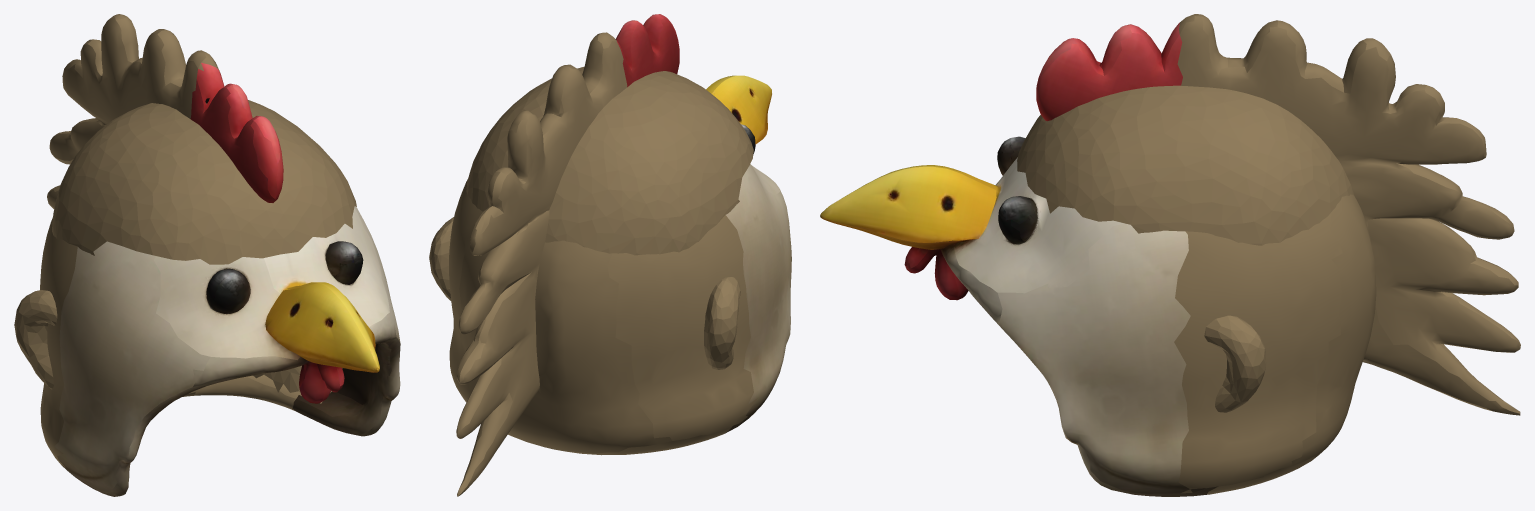
Rendered from chicken.glb.
3 renders of one model, left to right at view 1: azimuth 30°, elevation 25°; view 2: azimuth 150°, elevation 25°; view 3: azimuth 270°, elevation 25°, orthographic. The views are drawn at different scales.
Parts seen in each view (by area): view 1: geometry_0, HoodAnatomicalLining; view 2: geometry_0, HoodAnatomicalLining; view 3: geometry_0, HoodAnatomicalLining.
Boxes of the visible parts, x1,y1,x2,y2 form: geometry_0: (40,14,400,496); HoodAnatomicalLining: (14,100,356,403); geometry_0: (449,14,791,496); HoodAnatomicalLining: (429,66,753,369); geometry_0: (820,14,1520,496); HoodAnatomicalLining: (1017,85,1353,412).
Size of the model in its own units: 0.4602 by 0.5389 by 0.8187.
Materials: 2 (1 with a texture image).
